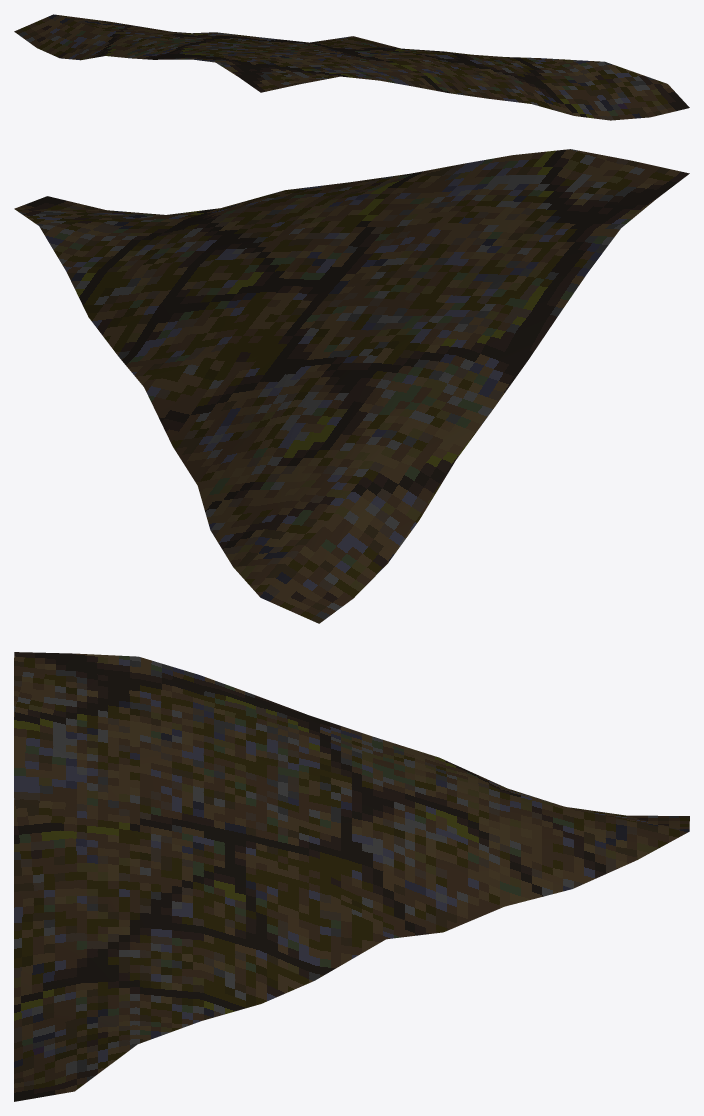
File: SlopeCorner.fbx
The picture shows the model from 3 angles, top to bottom: view 1: azimuth 30°, elevation 25°; view 2: azimuth 150°, elevation 25°; view 3: azimuth 270°, elevation 25°; orthographic projection. The views are drawn at different scales.
Visible parts, largest first — view 1: SlopeCorner; view 2: SlopeCorner; view 3: SlopeCorner.
Boxes of the visible parts, bbox=[...] form: SlopeCorner: bbox=[14, 14, 689, 120]; SlopeCorner: bbox=[14, 149, 689, 623]; SlopeCorner: bbox=[14, 652, 689, 1101].
Bounding box in the file's own units: 200 × 53.43 × 200.
1 material, 1 textured.
